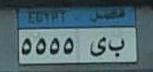5: (62, 36, 75, 56), (34, 37, 47, 55), (20, 37, 32, 55), (49, 37, 59, 53)
baa: (108, 37, 126, 57)
yaa: (88, 37, 107, 58)
